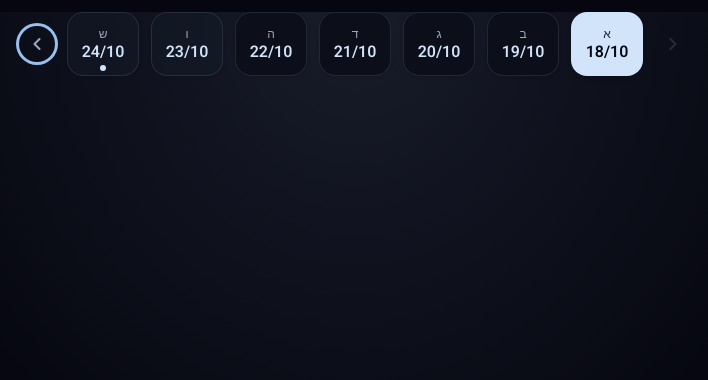
Test case: shows one week, navigates by keyboard and returns to the previous week
Expected: the button named "שבוע א׳" is disabled, [655, 26, 691, 62]
Expected: the button named "יום א, 18/10" is shown, [571, 12, 643, 76]
Press Enter
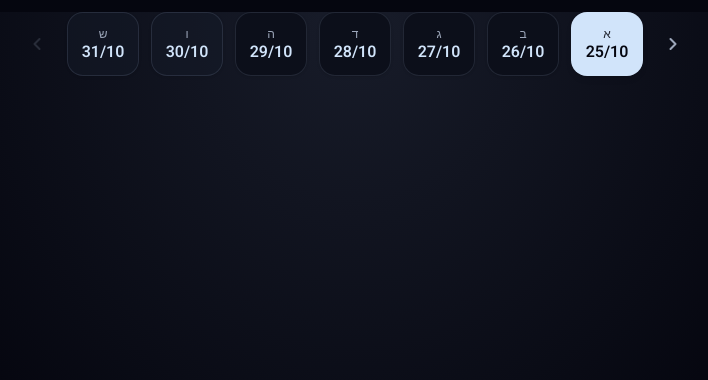
Result: the button named "יום א, 25/10" is shown at [571, 12, 643, 76]
Result: the button named "שבוע ב׳" is disabled at [19, 26, 55, 62]
Click the button named "שבוע א׳". click: (673, 44)
box: [655, 26, 691, 62]
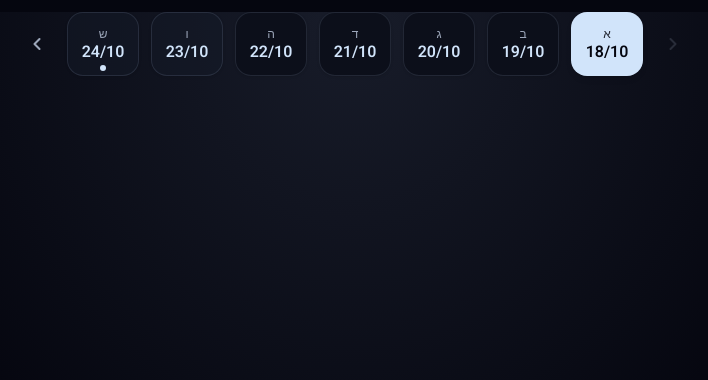
Result: the button named "יום א, 18/10" is shown at [571, 12, 643, 76]
